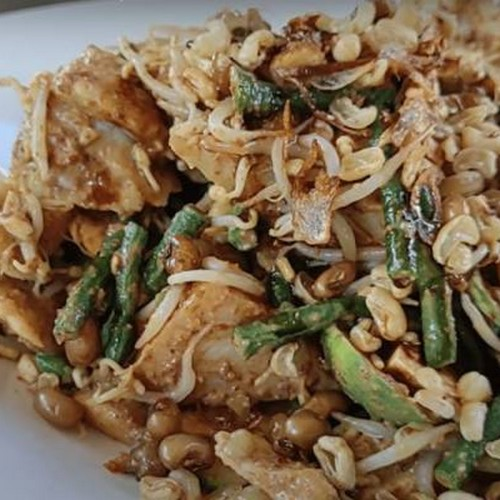tipat cantok: (15, 17, 500, 500)
